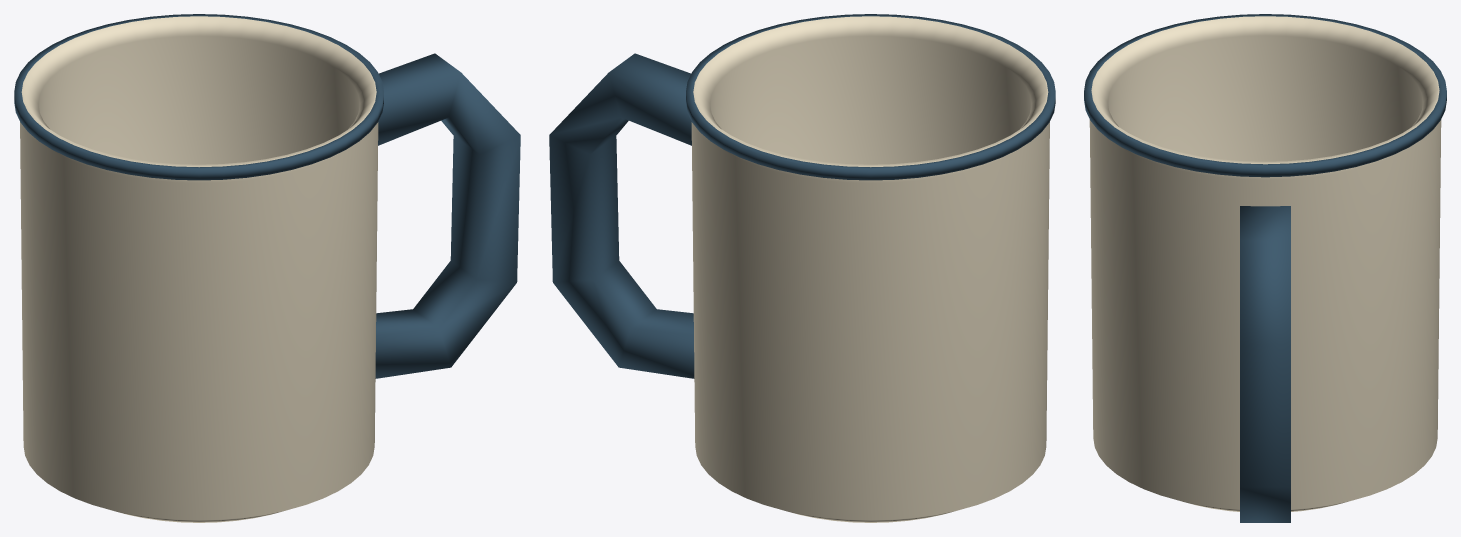
File: 11-mug.glb
3 renders of one model, left to right at view 1: azimuth 30°, elevation 25°; view 2: azimuth 150°, elevation 25°; view 3: azimuth 270°, elevation 25°, orthographic.
Visible parts, largest first — view 1: 11-mug; view 2: 11-mug; view 3: 11-mug.
Part boxes in pixels (x1=…): 11-mug: x1=14, y1=14, x2=520, y2=522; 11-mug: x1=549, y1=14, x2=1055, y2=522; 11-mug: x1=1084, y1=14, x2=1446, y2=522.
Bounding box in the file's own units: 0.1448 × 0.11 × 0.099.
